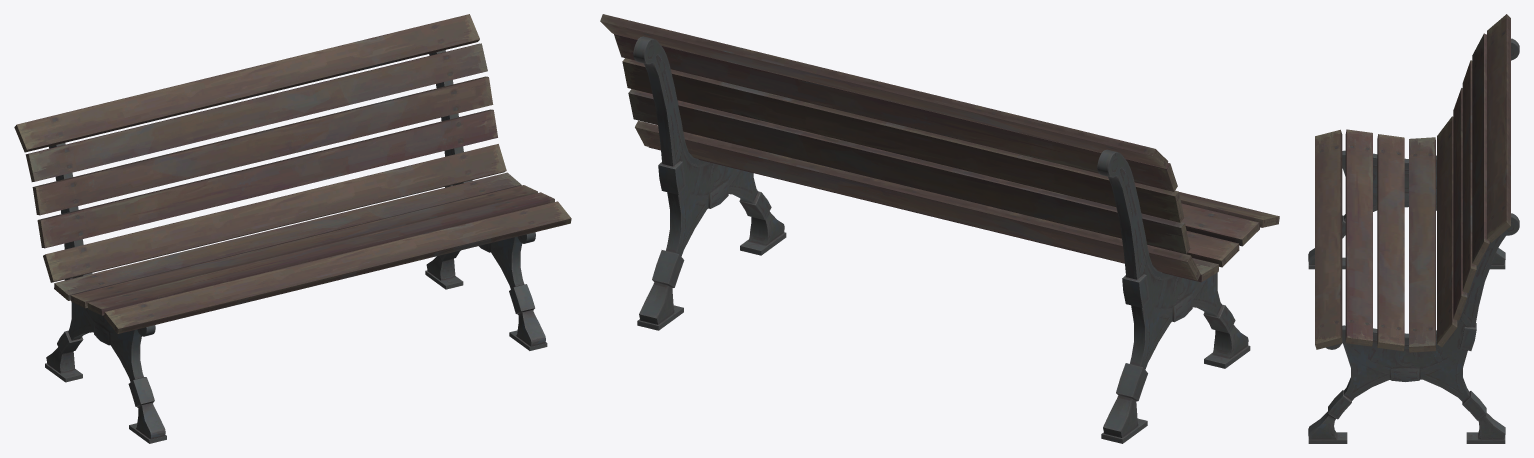
Rendered from Bench_1.glb.
3 renders of one model, left to right at view 1: azimuth 30°, elevation 25°; view 2: azimuth 150°, elevation 25°; view 3: azimuth 270°, elevation 25°, orthographic. The views are drawn at different scales.
Parts seen in each view (by area): view 1: Bench_0_LOD0; view 2: Bench_0_LOD0; view 3: Bench_0_LOD0.
Part boxes in pixels (<box>): Bench_0_LOD0: <box>14,14,571,443</box>; Bench_0_LOD0: <box>600,14,1279,443</box>; Bench_0_LOD0: <box>1308,14,1519,443</box>.
Bounding box in the file's own units: 1.84 × 0.9658 × 0.7882.
Materials: 1 (1 with a texture image).
